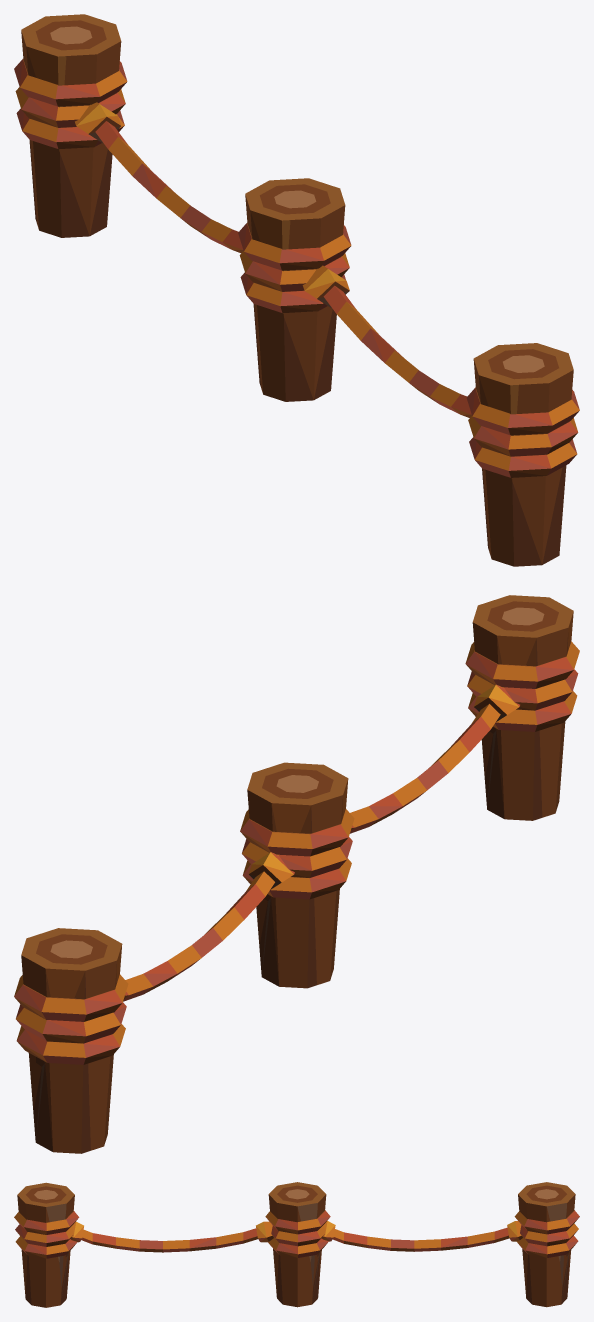
Rendered from itch_fishing_village_fence_rope3.glb.
3 views of the same model, one above another, from view 1: azimuth 30°, elevation 25°; view 2: azimuth 150°, elevation 25°; view 3: azimuth 270°, elevation 25° (orthographic). The views are drawn at different scales.
Parts seen in each view (by area): view 1: fence_rope3.001; view 2: fence_rope3.001; view 3: fence_rope3.001.
Boxes of the visible parts, x1,y1,x2,y2 form: fence_rope3.001: [14, 14, 579, 566]; fence_rope3.001: [14, 595, 579, 1153]; fence_rope3.001: [14, 1182, 579, 1307].
Bounding box in the file's own units: 0.1397 × 0.2399 × 1.18.
